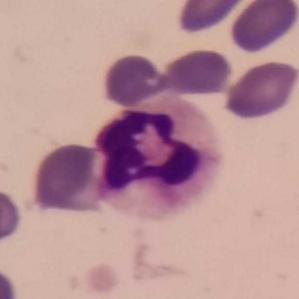Neutrophil: (88, 97, 228, 225)
RBC: (27, 140, 107, 216), (221, 58, 299, 122), (227, 0, 299, 55), (158, 46, 234, 98), (100, 52, 167, 108), (174, 0, 254, 36), (0, 190, 21, 243), (0, 263, 20, 299)
